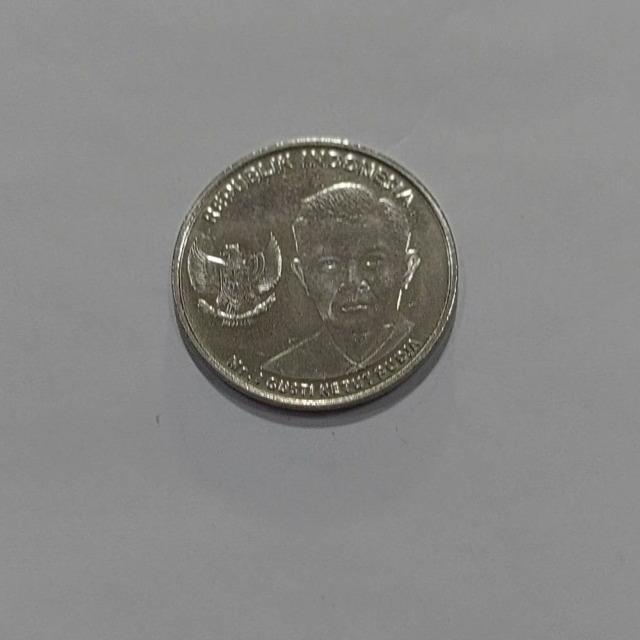Rp100: (169, 135, 460, 413)
